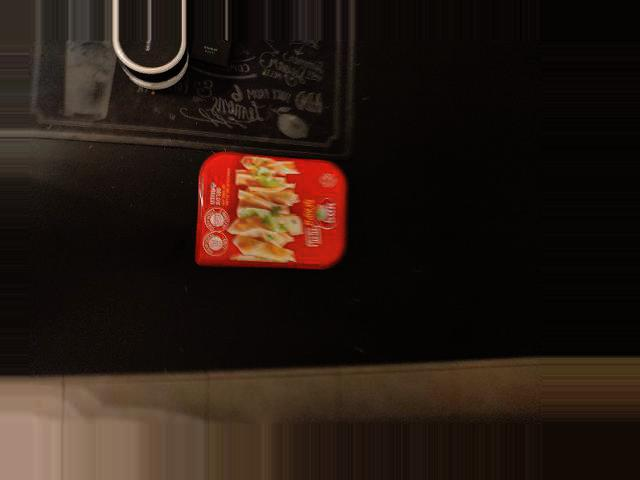cheese: (188, 152, 350, 267)
